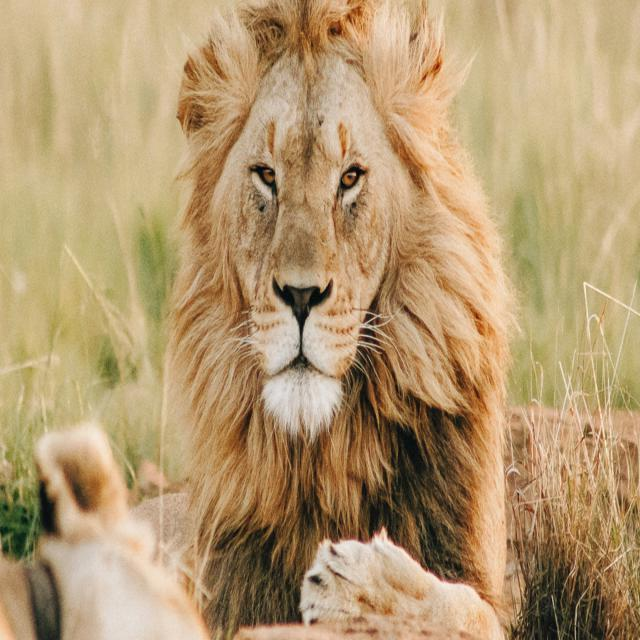lions: (58, 13, 640, 639)
